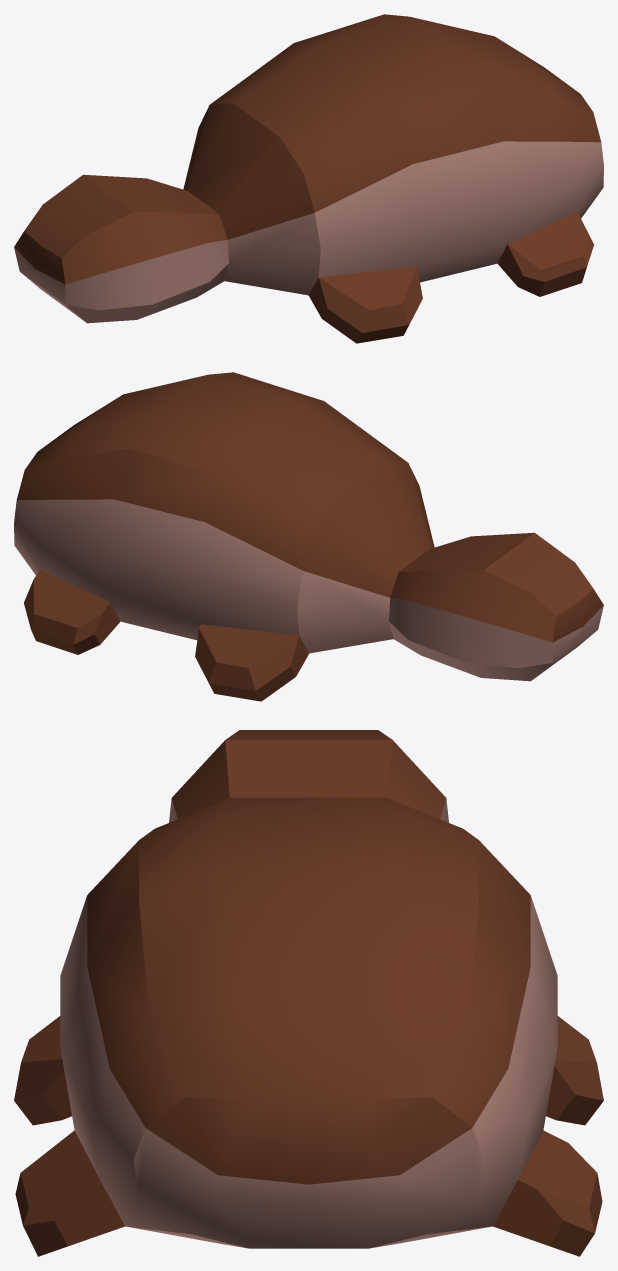
Rendered from Fish.fbx.
The picture shows the model from 3 angles, top to bottom: view 1: azimuth 30°, elevation 25°; view 2: azimuth 150°, elevation 25°; view 3: azimuth 270°, elevation 25°; orthographic projection. The views are drawn at different scales.
Visible parts, largest first — view 1: Fibsh; view 2: Fibsh; view 3: Fibsh.
Part boxes in pixels (left/top/right/bottom): Fibsh: left=14, top=14, right=603, bottom=343; Fibsh: left=14, top=372, right=603, bottom=701; Fibsh: left=14, top=730, right=603, bottom=1256.
Size of the model in its own units: 585 by 217 by 338.
